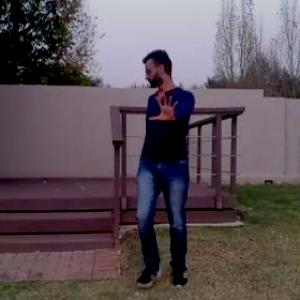follow_hand: (148, 88, 180, 127)
